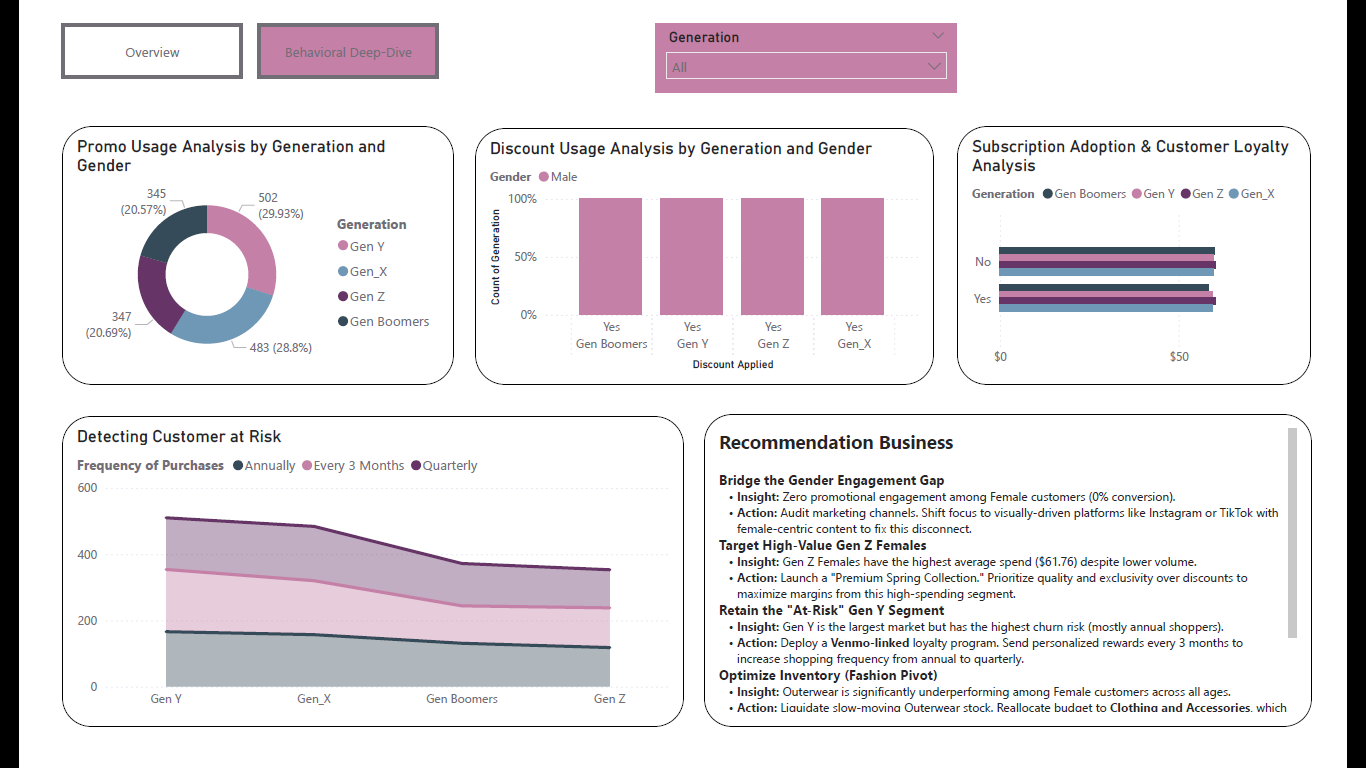

What the dashboard file says about the page in this screenshot:
{"tool":"powerbi","page":{"name":"Behavioral Deep-Dive","canvas":[1280,720],"ordinal":1},"visuals":[{"type":"donutChart","title":"Promo Usage Analysis by Generation and Gender","fields":{"Category":["shopping_behavior_updated.Generation","shopping_behavior_updated.Promo Code Used"],"Series":["shopping_behavior_updated.Gender"],"Y":["CountNonNull(shopping_behavior_updated.Generation)"]},"box":[19,102.1,391.8,258.8],"z":0},{"type":"clusteredBarChart","title":"Subscription Adoption & Customer Loyalty Analysis","fields":{"Category":["shopping_behavior_updated.Subscription Status"],"Series":["shopping_behavior_updated.Generation"],"Y":["Avg(shopping_behavior_updated.Purchase Amount (USD))"]},"box":[914.3,102.1,353.8,258.8],"z":1000},{"type":"hundredPercentStackedColumnChart","title":"Discount Usage Analysis by Generation and Gender","fields":{"Category":["shopping_behavior_updated.Generation","shopping_behavior_updated.Discount Applied"],"Series":["shopping_behavior_updated.Gender"],"Y":["CountNonNull(shopping_behavior_updated.Generation)"]},"box":[432.2,104.5,458.3,256.5],"z":2000},{"type":"actionButton","box":[18.7,0,181.4,54.7],"z":3000},{"type":"actionButton","box":[214.6,0,181.4,54.7],"z":4000},{"type":"slicer","fields":{"Values":["shopping_behavior_updated.Generation"]},"box":[613.4,0,301,69.1],"z":5000},{"type":"stackedAreaChart","title":"Detecting Customer at Risk","fields":{"Category":["shopping_behavior_updated.Generation"],"Y":["CountNonNull(shopping_behavior_updated.Generation)"],"Series":["shopping_behavior_updated.Frequency of Purchases"]},"box":[19,391.8,622.2,311.1],"z":6000},{"type":"textbox","box":[661,390.2,607.7,312.5],"z":7000}]}

Visuals, with their boxes in screenshot pixels (x1, y1, x2, y2), scaled from the page's 1280x720 canvas onto the 1366x768 screenshot:
"Promo Usage Analysis by Generation and Gender" donutChart: region(20, 109, 438, 385)
"Subscription Adoption & Customer Loyalty Analysis" clusteredBarChart: region(976, 109, 1353, 385)
"Discount Usage Analysis by Generation and Gender" hundredPercentStackedColumnChart: region(461, 111, 950, 385)
actionButton: region(20, 0, 214, 58)
actionButton: region(229, 0, 423, 58)
slicer - shopping_behavior_updated.Generation: region(655, 0, 976, 74)
"Detecting Customer at Risk" stackedAreaChart: region(20, 418, 684, 750)
textbox: region(705, 416, 1354, 750)
